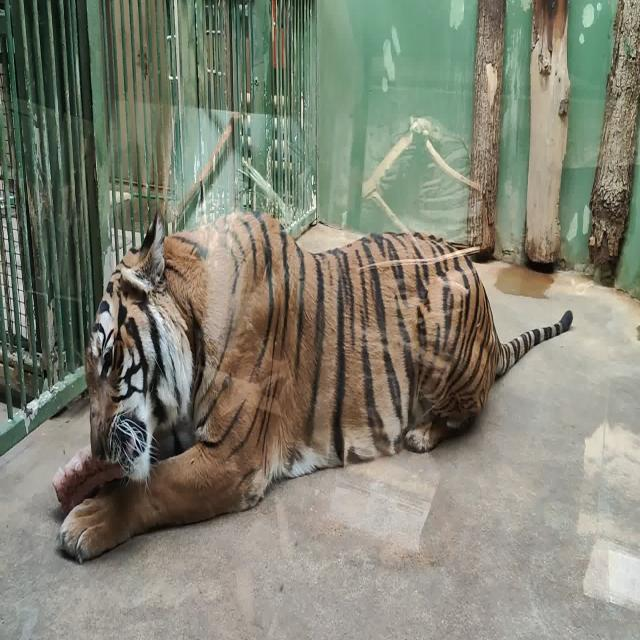tiger: (60, 208, 573, 561)
